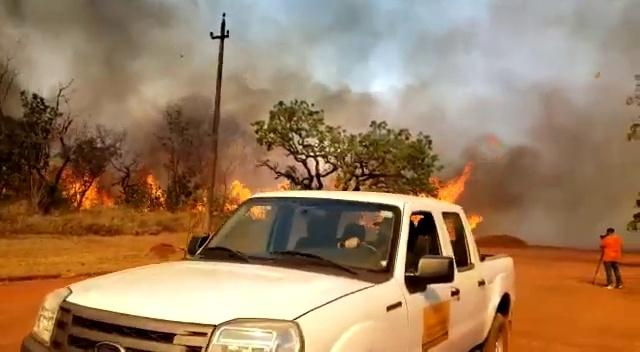fire: (62, 175, 106, 208), (434, 164, 467, 203), (146, 174, 167, 211), (227, 179, 250, 206), (466, 212, 483, 230), (250, 206, 267, 221), (275, 178, 290, 191)
smoke: (2, 1, 639, 242)
